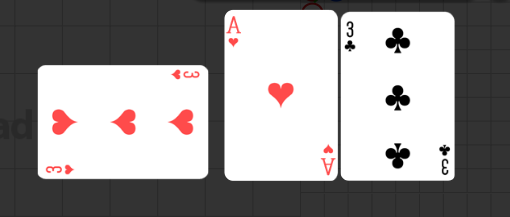3C: (437, 141, 451, 176)
3H: (43, 162, 75, 174)
AH: (318, 141, 335, 176)
